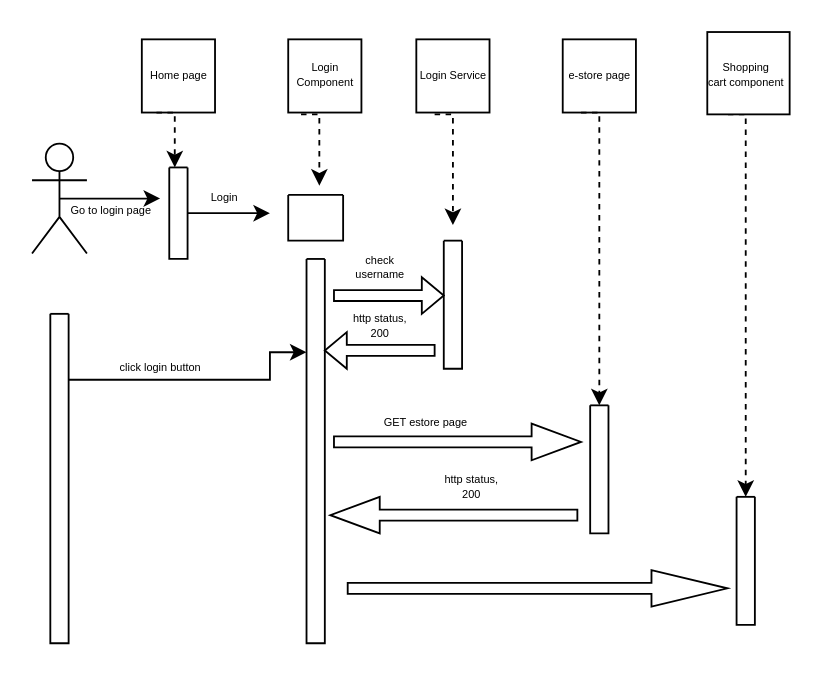
This 833x675 diagram has some shape labels left out. The centre of each missing label's shape, as x and y in pixels:
"add product to cart" goes at [536,587].
"User" goes at [58,197].
